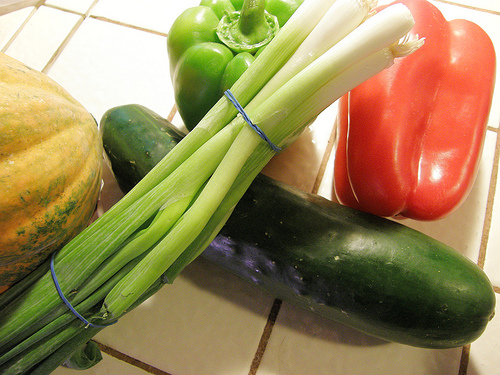cucumber: (98, 102, 499, 353)
